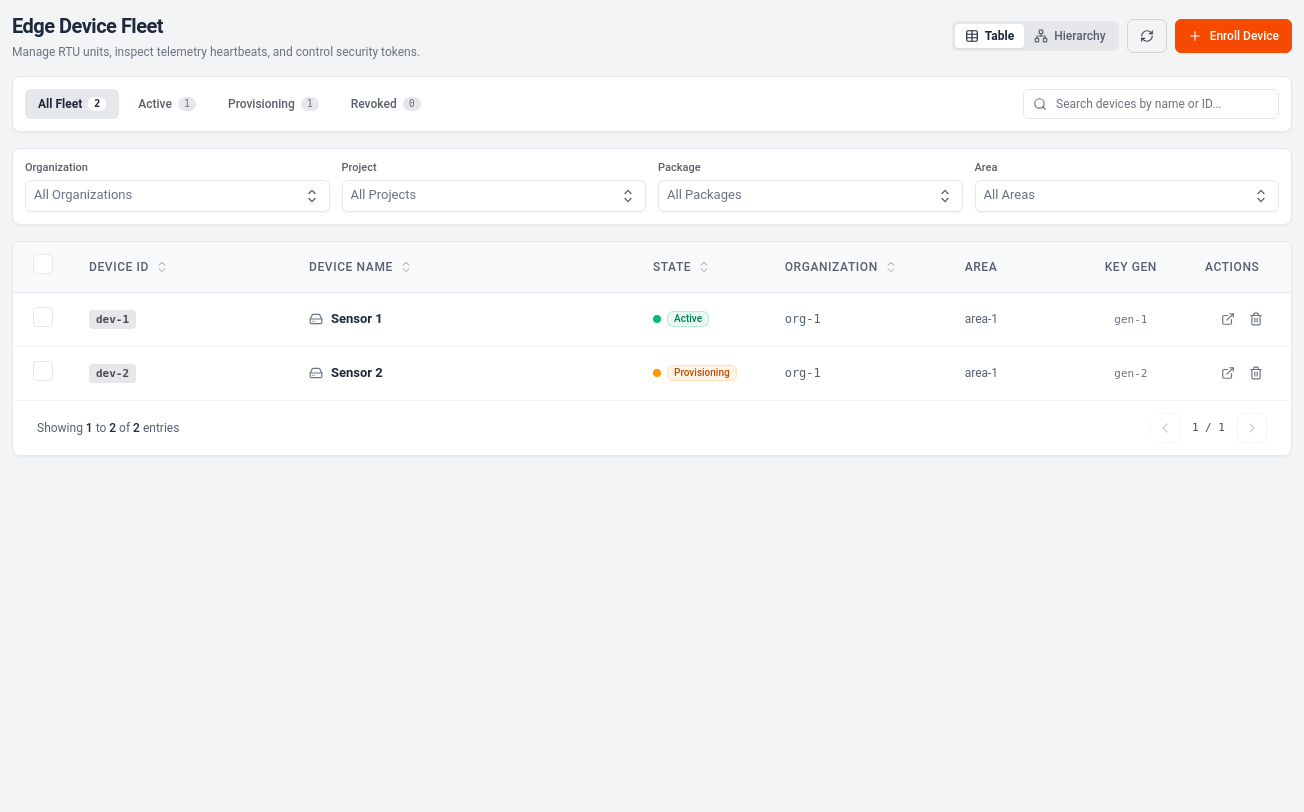
it: DeviceListView › switches to hierarchy tree mode when toggle is clicked
Click the button with test id "toggle-tree-mode" at (1070, 36), box left=1024, top=24, right=1116, bottom=48
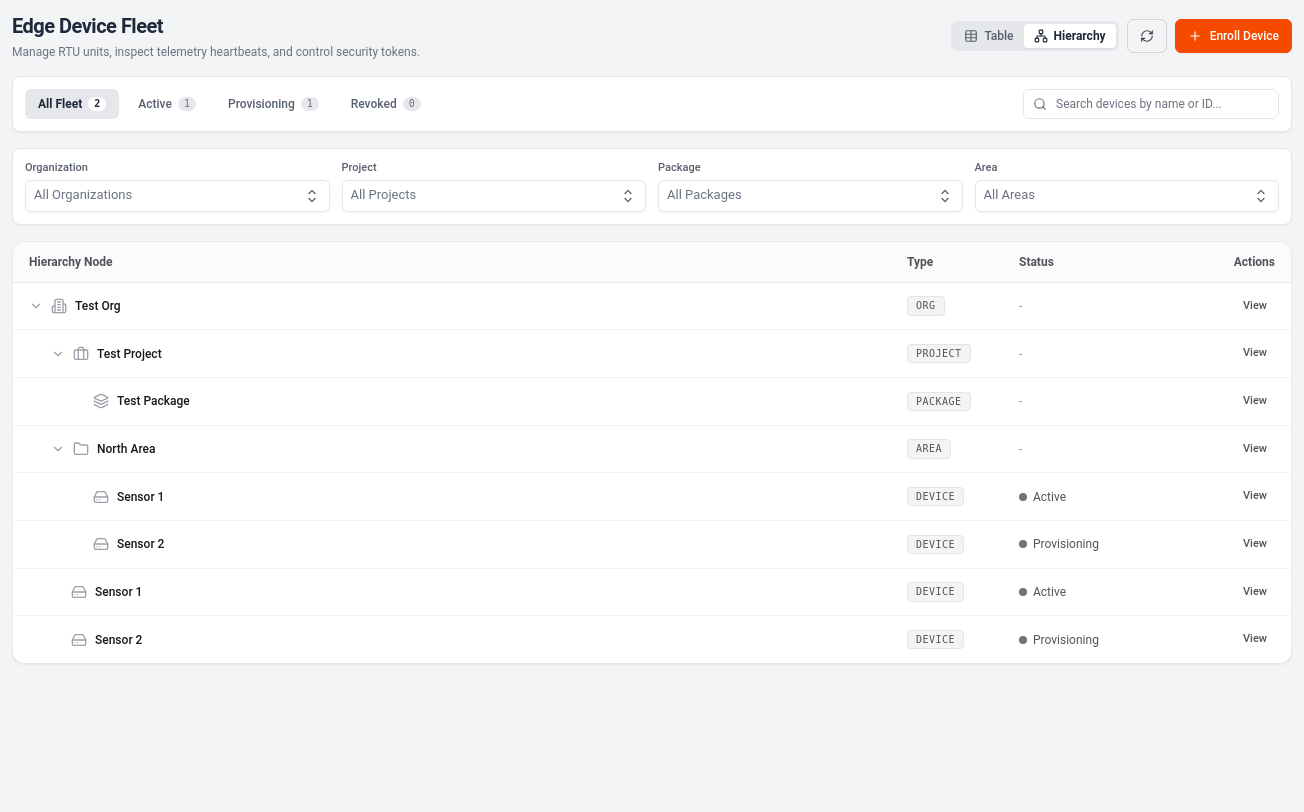
Now the element with test id "tree-data-table" is shown, box left=12, top=241, right=1292, bottom=664
Now the text "Test Org" is shown, box left=75, top=298, right=121, bottom=314
